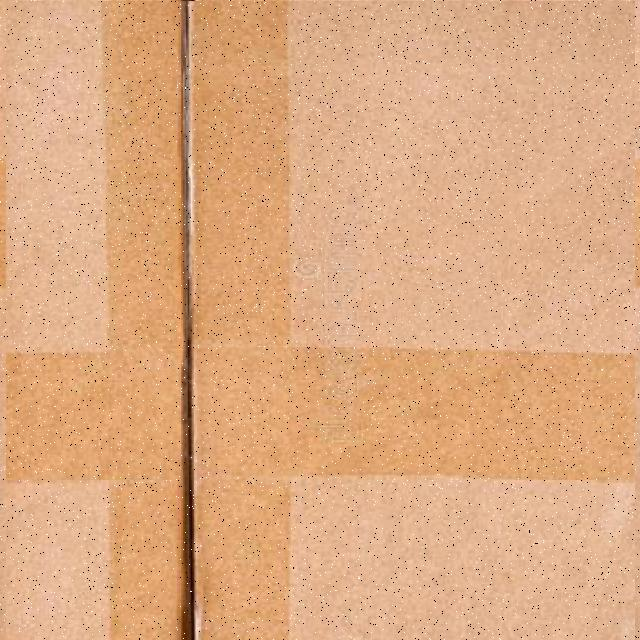normal: (6, 1, 635, 640)
